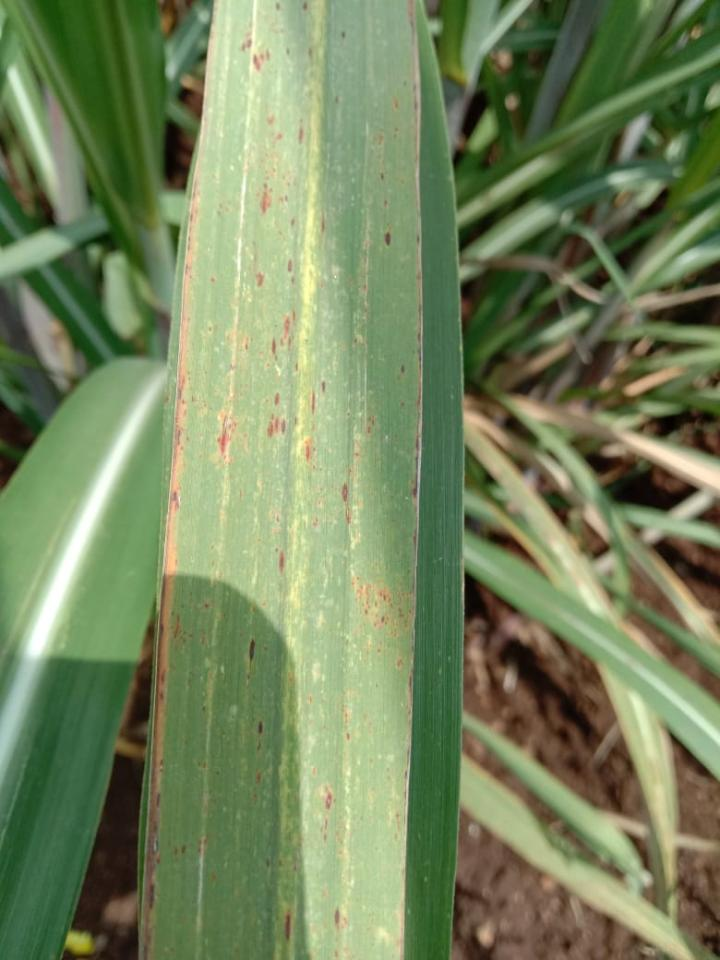Rust: (349, 572, 417, 642), (260, 315, 294, 367), (171, 375, 189, 473), (212, 408, 238, 467), (405, 423, 422, 500), (168, 611, 198, 654), (185, 176, 200, 252), (264, 411, 289, 441), (359, 413, 383, 440), (253, 714, 269, 753), (149, 819, 162, 865), (357, 239, 375, 272), (282, 905, 296, 945), (252, 47, 272, 74), (406, 657, 415, 716), (330, 905, 350, 931), (245, 636, 259, 673), (322, 783, 338, 815), (170, 841, 188, 867), (274, 547, 288, 579), (306, 389, 319, 422), (321, 814, 333, 849), (390, 810, 403, 842), (259, 190, 274, 217), (168, 488, 183, 514), (302, 436, 314, 468), (238, 31, 254, 54), (280, 170, 299, 189), (268, 130, 285, 150), (407, 0, 414, 46), (394, 360, 408, 382), (252, 269, 267, 289), (341, 479, 351, 508), (195, 836, 210, 855), (183, 258, 194, 283), (147, 882, 156, 912), (383, 228, 394, 249), (195, 756, 209, 772), (273, 389, 283, 409), (152, 789, 162, 809), (344, 505, 353, 527), (264, 854, 273, 875), (391, 125, 402, 142), (321, 210, 327, 240), (375, 133, 386, 149), (319, 378, 328, 397), (297, 126, 305, 147), (201, 600, 214, 612), (380, 195, 391, 209), (312, 516, 321, 533), (208, 871, 218, 886), (286, 257, 294, 275), (392, 96, 401, 112), (263, 169, 270, 189), (208, 273, 218, 286), (378, 171, 387, 184), (267, 114, 277, 125), (276, 512, 283, 526), (158, 758, 164, 774), (352, 336, 360, 348), (333, 94, 341, 106), (274, 1, 282, 13), (248, 605, 257, 615), (301, 2, 309, 13), (284, 46, 292, 57), (345, 730, 351, 743), (294, 360, 300, 373), (401, 77, 408, 88), (283, 193, 290, 204), (306, 49, 314, 58), (291, 310, 296, 324), (277, 195, 284, 205), (242, 343, 249, 352), (340, 31, 347, 40), (268, 184, 275, 193), (261, 600, 267, 609), (256, 187, 260, 200), (290, 217, 295, 227)
Yellow: (280, 0, 346, 757), (140, 284, 194, 959), (275, 752, 299, 959)
